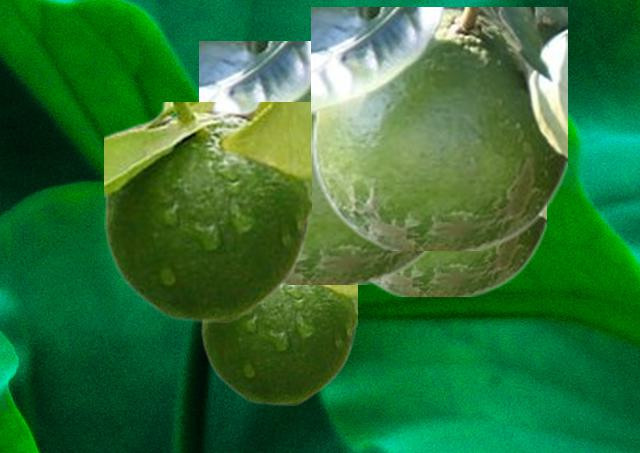dalandan: (311, 7, 566, 249), (199, 41, 430, 283), (104, 102, 310, 321), (201, 284, 356, 404), (371, 214, 545, 295)
